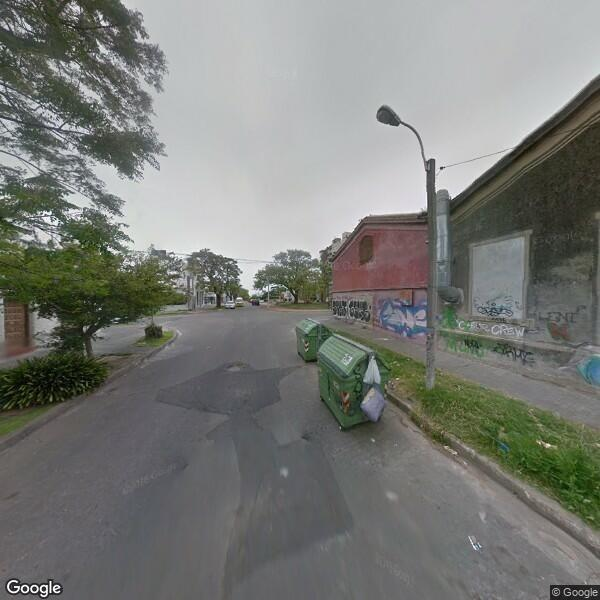Dechets: (367, 357, 382, 420)
Trash: (320, 333, 389, 434), (296, 311, 333, 368)
